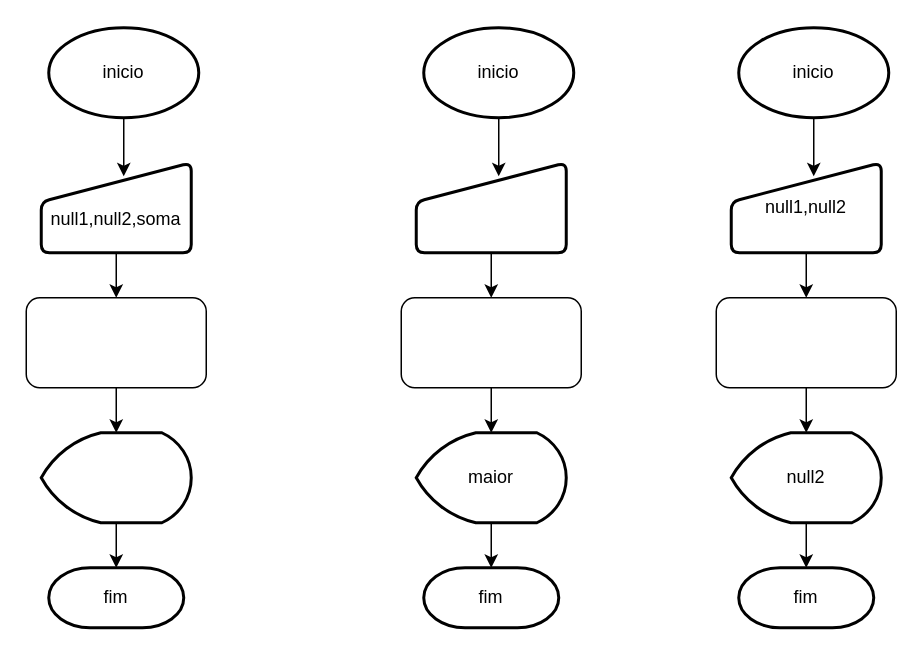
This 923x654 diagram has some shape labels left out. Each missing label, with the centre of its shape:
"idade ,maior" goes at (x=490, y=207).
"maior= idade > 18" goes at (x=490, y=342).
"null2=null1 > 0" goes at (x=805, y=342).
"soma" goes at (x=115, y=477).
"soma= null1 +null2" goes at (x=115, y=342).
